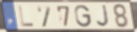7: (37, 5, 53, 29), (55, 5, 71, 27)
8: (112, 3, 130, 29)
G: (74, 5, 93, 28)
J: (96, 4, 111, 28)
L: (18, 5, 36, 28)
